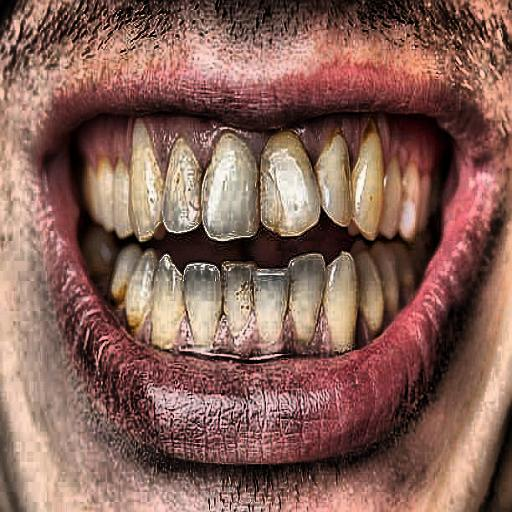Calculus: (72, 83, 460, 256), (76, 225, 464, 370)
